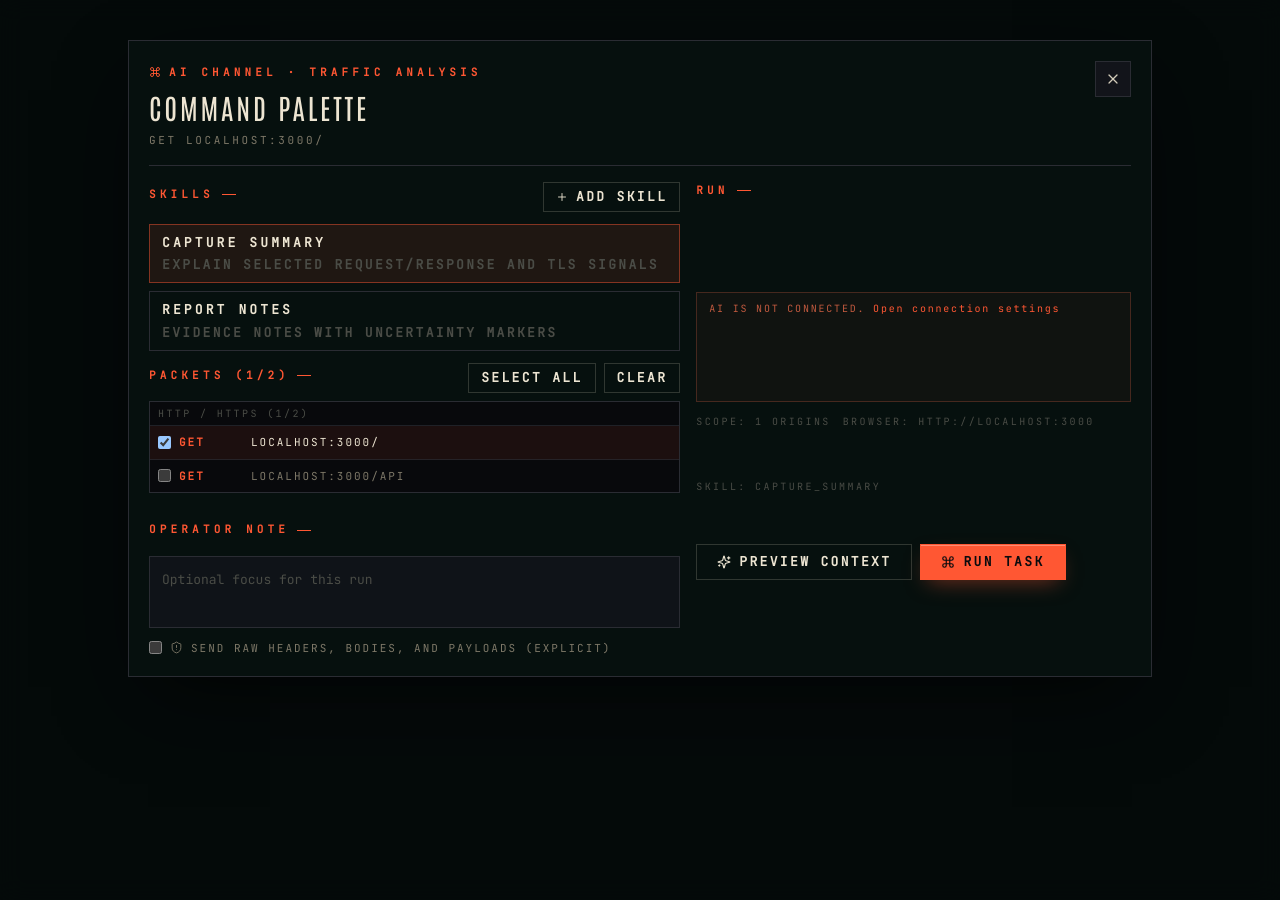
Scenario: CommandPalette › supports multi-selecting captures for traffic tasks
The image size is (1280, 900).
expect the text "Packets (1/2)" is shown: met, box [149,367,311,389]
expect the checkbox with test id "aiCaptureCheckbox-cap-1" is checked: met, box [158,436,171,449]
Step 1. Click the checkbox with test id "aiCaptureCheckbox-cap-2" → (164,476), box [158,469,171,482]
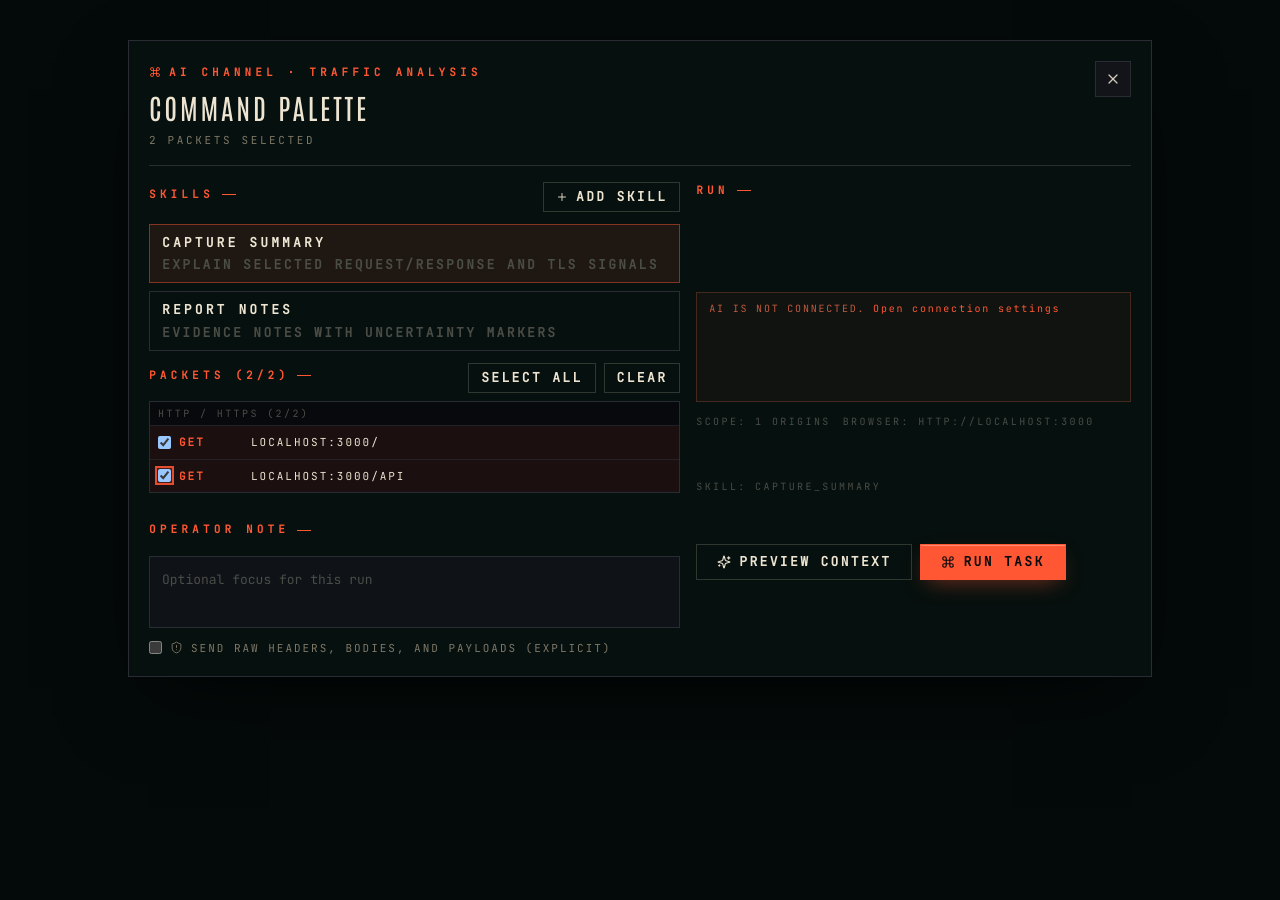
expect the text "Packets (2/2)" is shown: met, box [149,367,311,389]
expect the text "2 packets selected" is shown: met, box [149,133,315,147]
Step 2. Click the button with test id "aiClearPackets" → (642,378), box [604,363,680,393]
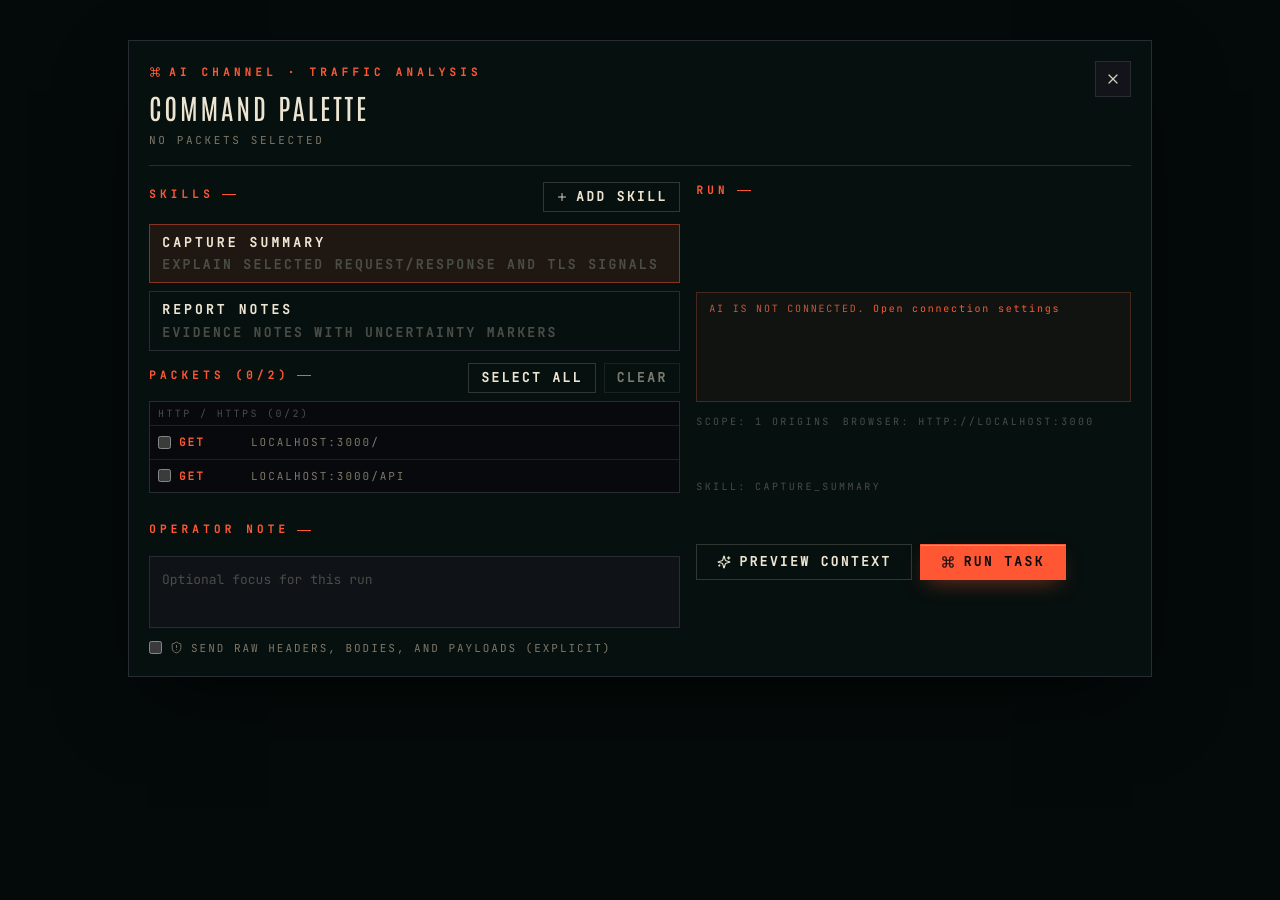
expect the text "Packets (0/2)" is shown: met, box [149,367,311,389]
expect the text "No packets selected" is shown: met, box [149,133,325,147]
Step 3. Click the button with test id "aiSelectAllPackets" → (532,378), box [468,363,596,393]
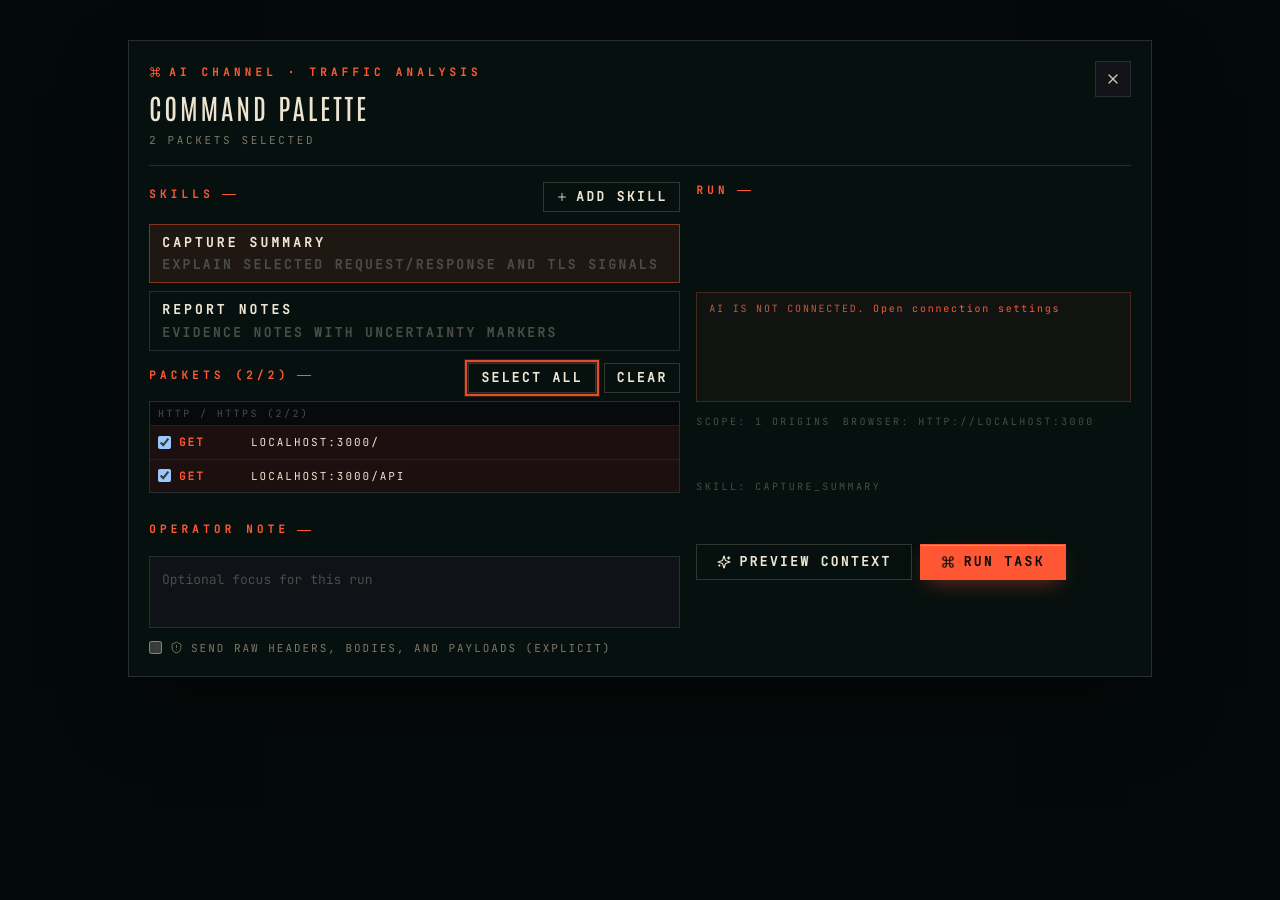
expect the text "Packets (2/2)" is shown: met, box [149,367,311,389]
